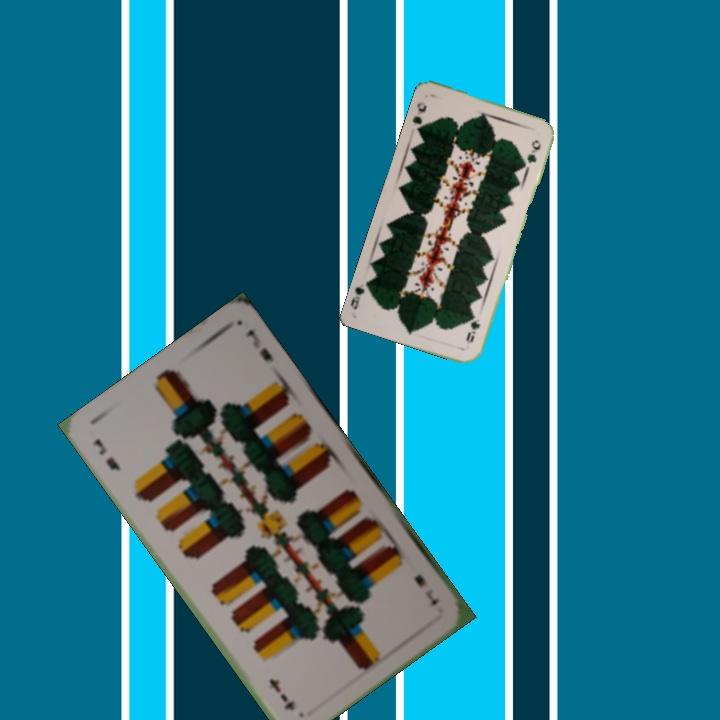E7: (89, 435, 123, 474), (410, 570, 442, 608)
G9: (408, 98, 429, 135), (463, 312, 483, 346)
